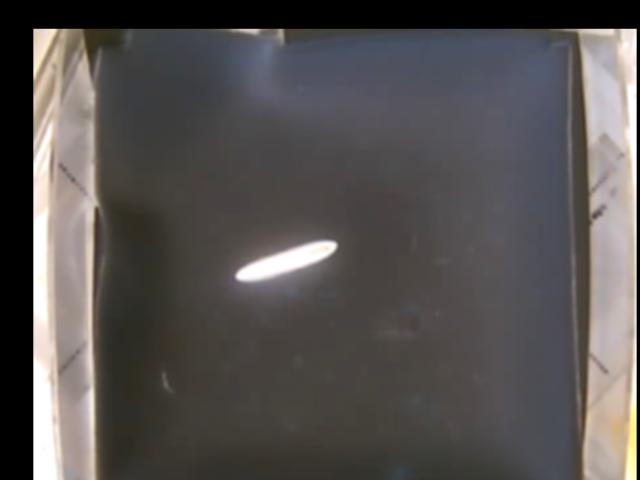Pebble: (232, 239, 340, 283)
